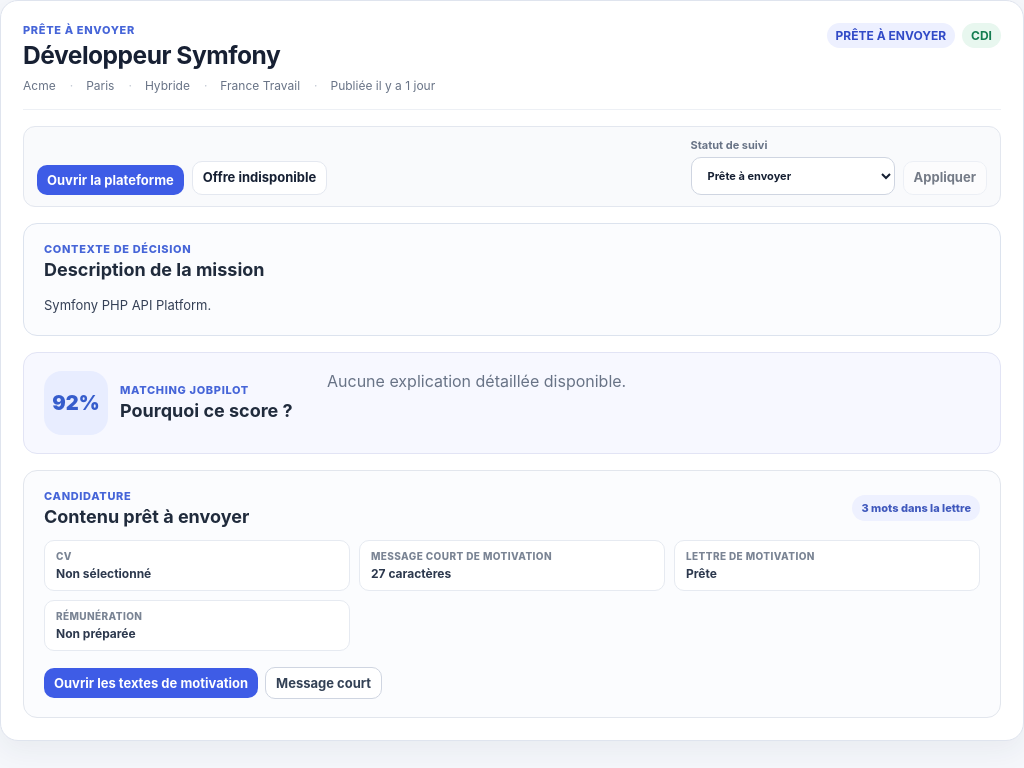
Review Queue motivation message › regenerates the short message from the drawer with the chosen maximum length
Click the button "Message court" at (324, 683), box [265,667,382,699]
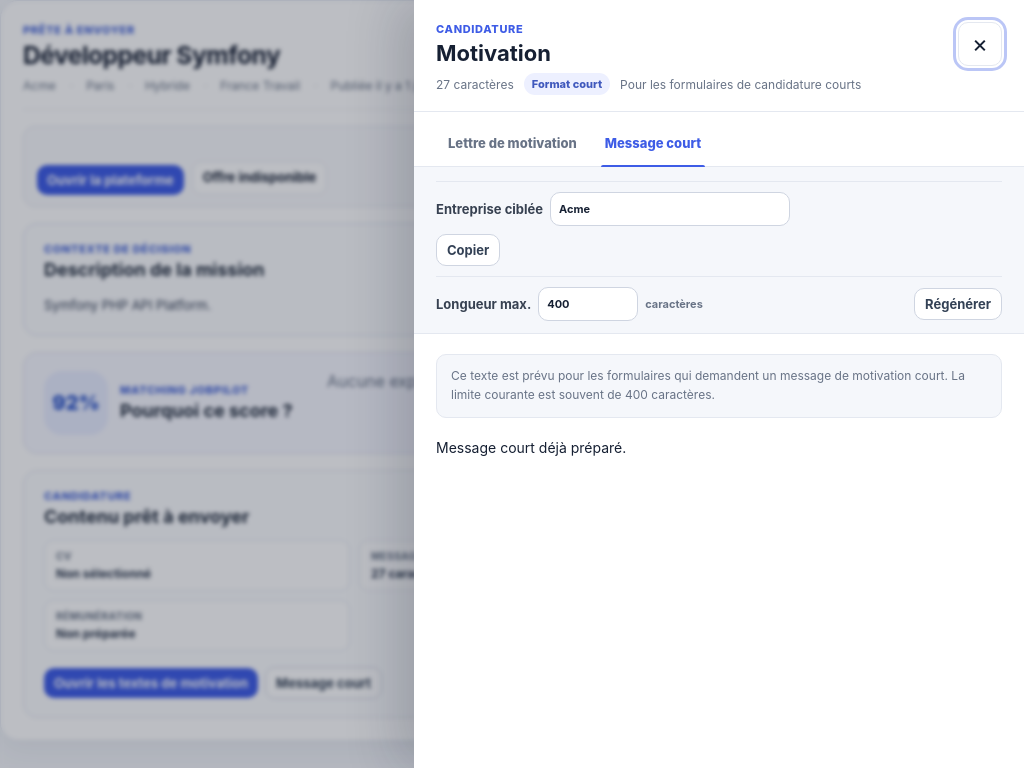
Replace the text in the number field named "Longueur maximale du message court" with "250" at (588, 304), box [538,287,638,321]
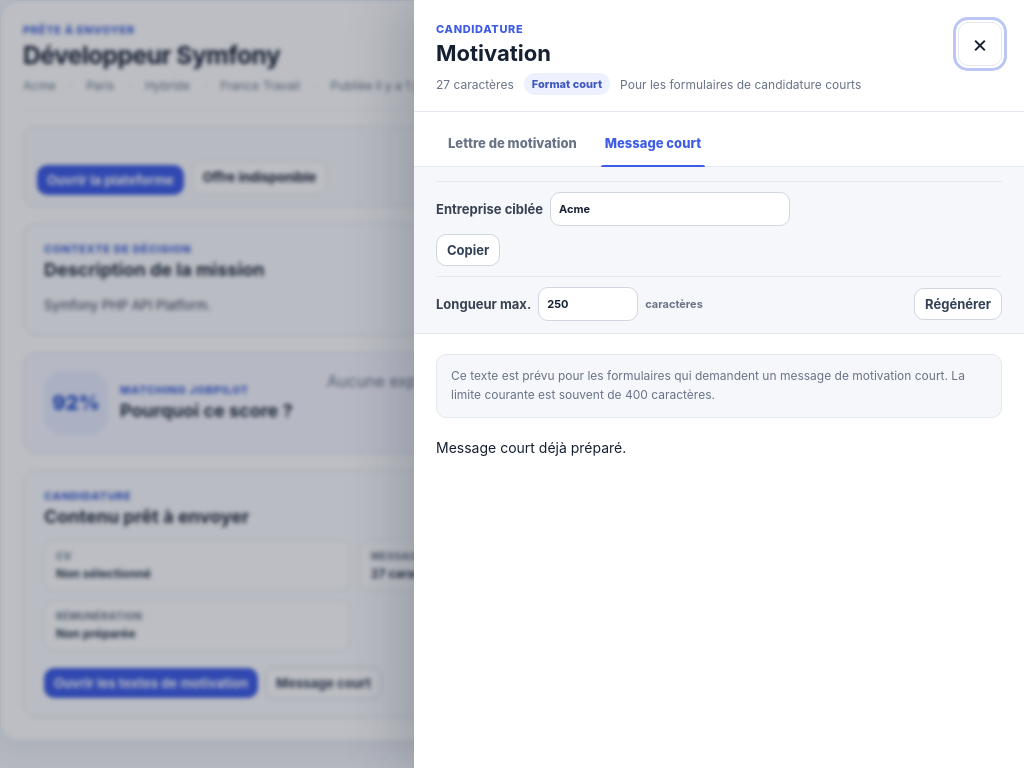
Click the button "Régénérer" at (958, 304), box [914,288,1002,320]
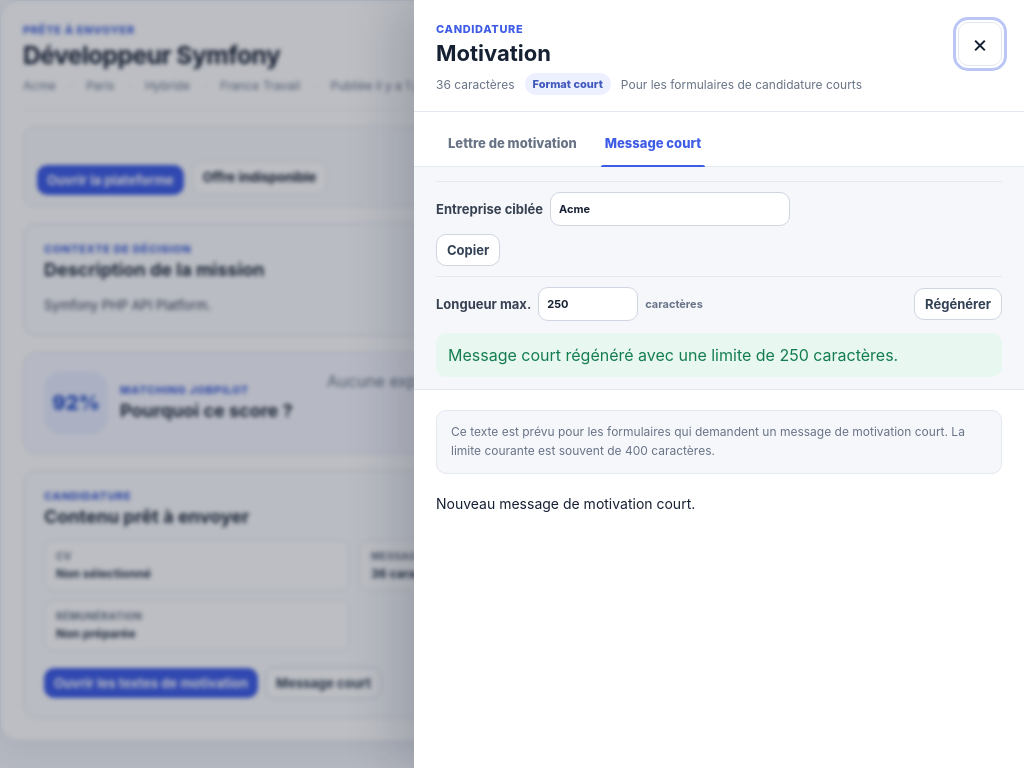
Result: the text "Nouveau message de motivation court." is shown at [436,495,695,512]
